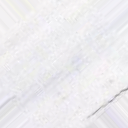crackTip: (86, 85, 126, 121)
